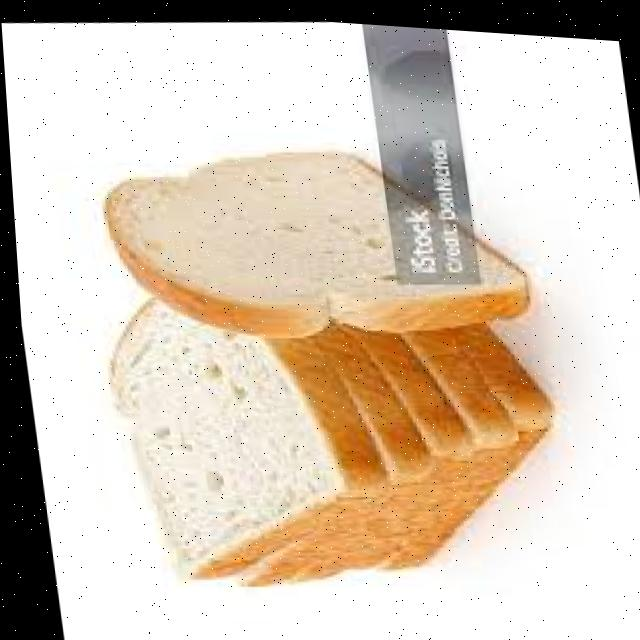Bread: (101, 147, 522, 331), (104, 296, 362, 574), (104, 296, 327, 562)
